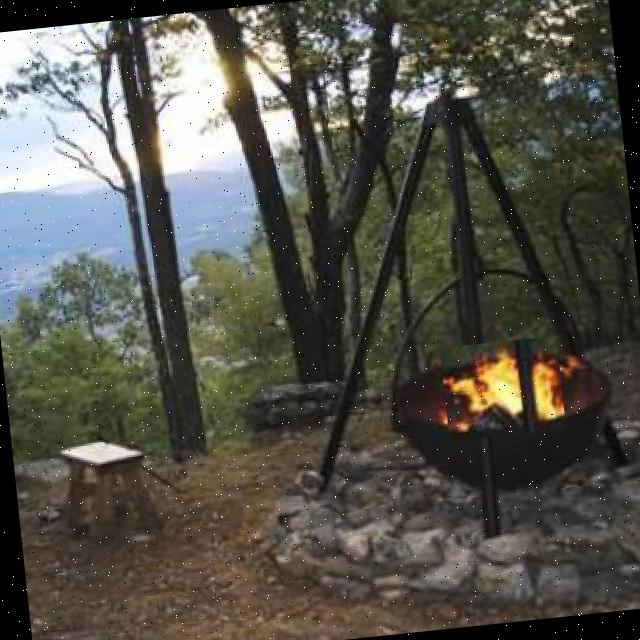fire: (440, 336, 566, 442)
